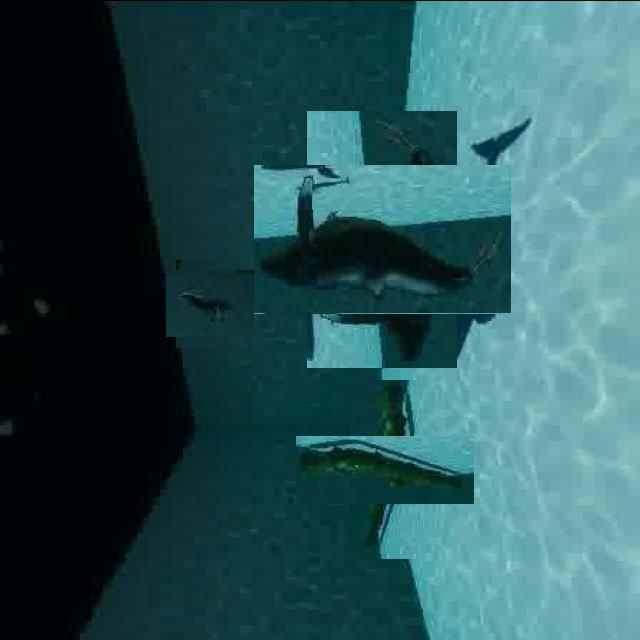Pipe: (322, 407, 447, 530)
Whale: (280, 137, 484, 340), (171, 264, 249, 342)
